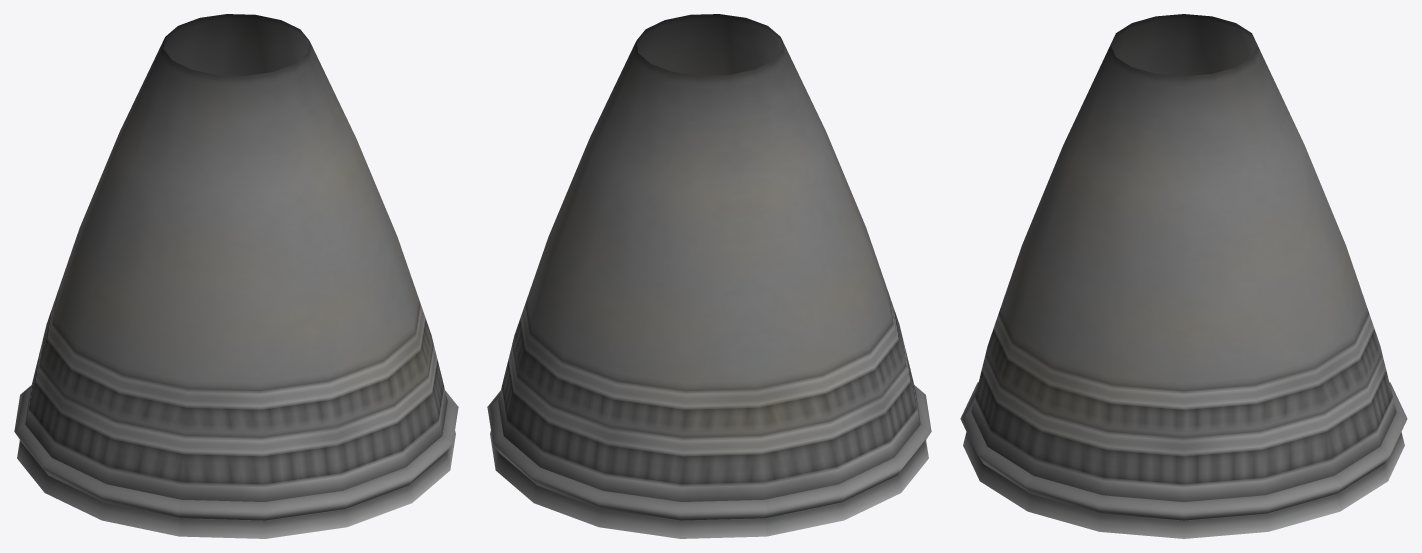
File: CLV_2_Engine_1_Nozzle.obj
The picture shows the model from 3 angles, left to right: view 1: azimuth 30°, elevation 25°; view 2: azimuth 150°, elevation 25°; view 3: azimuth 270°, elevation 25°; orthographic projection.
Parts seen in each view (by area): view 1: CLV_2_Engine_1_Nozzle; view 2: CLV_2_Engine_1_Nozzle; view 3: CLV_2_Engine_1_Nozzle.
Part boxes in pixels (box(x1,y1,x2,y2)): CLV_2_Engine_1_Nozzle: box(14, 14, 458, 538); CLV_2_Engine_1_Nozzle: box(487, 14, 931, 538); CLV_2_Engine_1_Nozzle: box(960, 14, 1407, 538).
Bounding box in the file's own units: 0.6072 × 0.6 × 0.6072.
